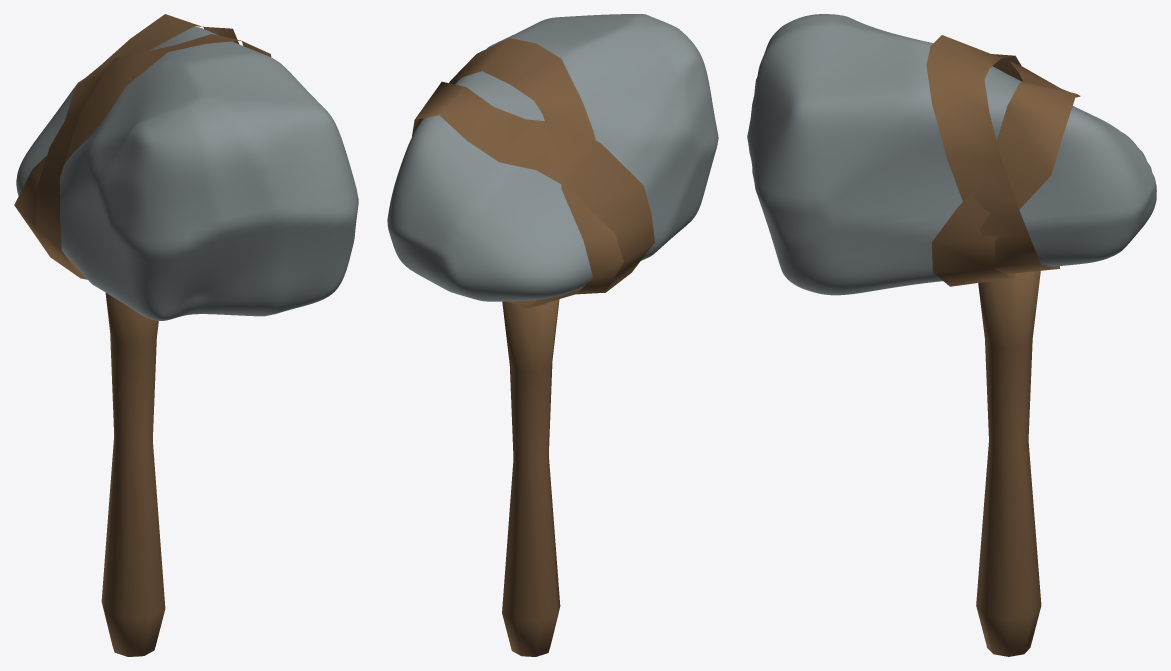
Rendered from Hammer.fbx.
3 views of the same model, side by side, from view 1: azimuth 30°, elevation 25°; view 2: azimuth 150°, elevation 25°; view 3: azimuth 270°, elevation 25° (orthographic). The views are drawn at different scales.
Parts seen in each view (by area): view 1: rock.009, Cylinder, Plane.004, Plane.002; view 2: rock.009, Cylinder, Plane.004, Plane.002; view 3: rock.009, Cylinder, Plane.002, Plane.004.
Part boxes in pixels (x1,y1,x2,y2): rock.009: (16, 26, 358, 320); Cylinder: (101, 293, 165, 656); Plane.004: (35, 14, 238, 279); Plane.002: (14, 34, 271, 256); rock.009: (387, 14, 718, 301); Cylinder: (502, 299, 560, 656); Plane.004: (412, 81, 654, 292); Plane.002: (449, 38, 623, 308); rock.009: (747, 14, 1156, 295); Cylinder: (976, 270, 1041, 656); Plane.002: (926, 35, 1059, 273); Plane.004: (932, 61, 1080, 286).
Bounding box in the file's own units: 33.71 × 88.39 × 52.82.
